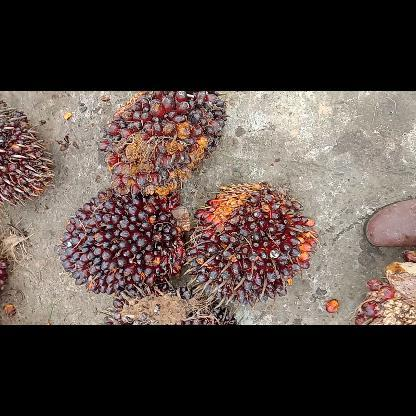Kurang masak: (185, 179, 321, 309), (54, 187, 192, 299), (95, 90, 229, 202)
